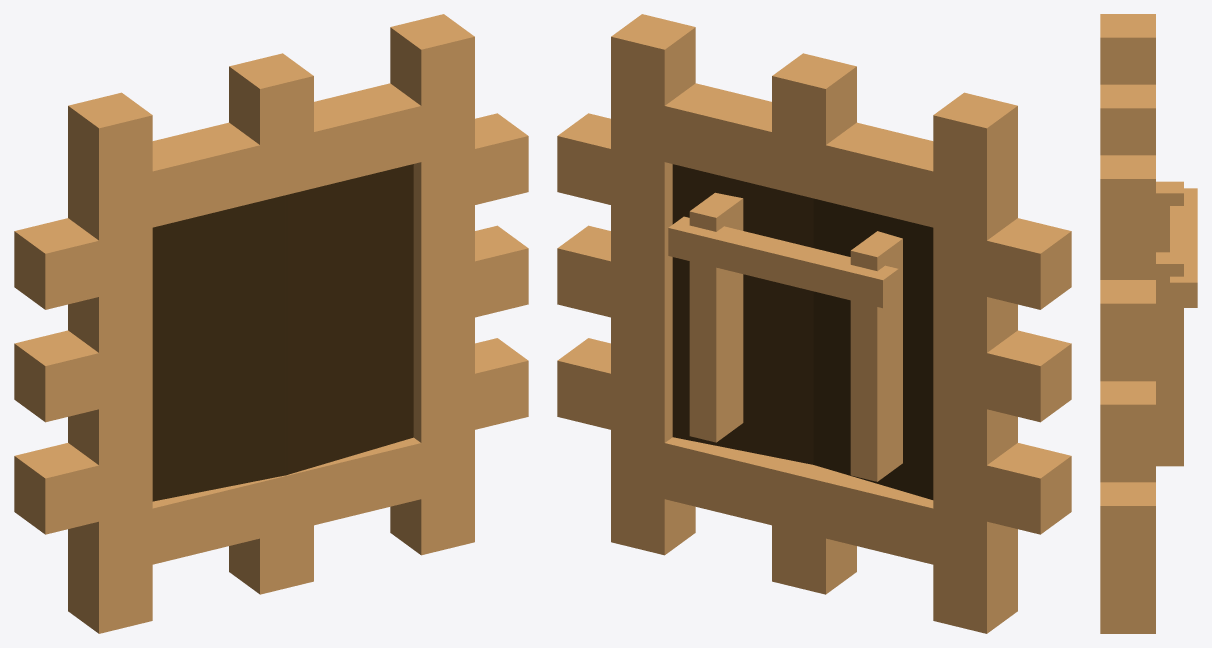
Rendered from SpikeShield.fbx.
The picture shows the model from 3 angles, left to right: view 1: azimuth 30°, elevation 25°; view 2: azimuth 150°, elevation 25°; view 3: azimuth 270°, elevation 25°; orthographic projection. The views are drawn at different scales.
Visible parts, largest first — view 1: Cube.014, Cube.001; view 2: Cube.014, Cube.001, Cube.017; view 3: Cube.014, Cube.017.
Boxes of the visible parts, x1,y1,x2,y2 form: Cube.014: (14, 14, 528, 633); Cube.001: (152, 164, 413, 501); Cube.014: (557, 14, 1071, 633); Cube.001: (672, 164, 933, 499); Cube.017: (668, 192, 902, 481); Cube.014: (1100, 14, 1155, 633); Cube.017: (1156, 181, 1197, 466).
Bounding box in the file's own units: 180 × 180 × 35.
